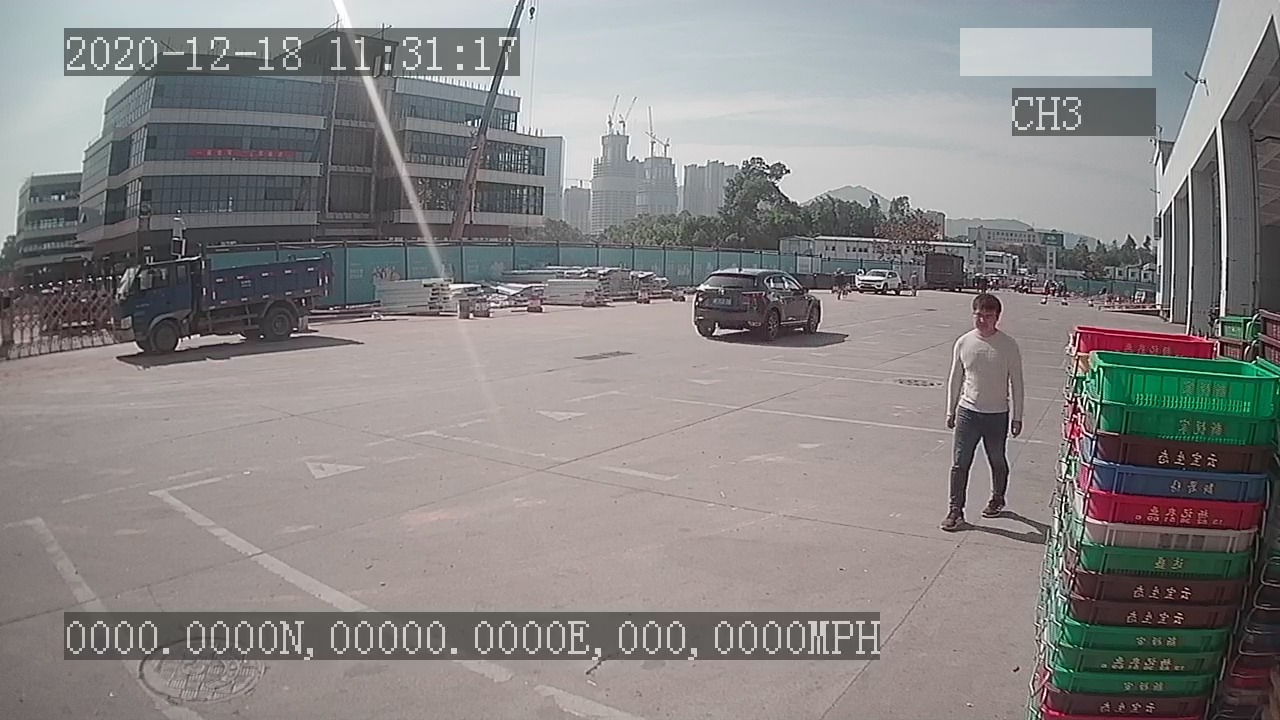person: (936, 288, 1028, 532)
